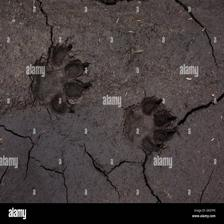wolf: (29, 42, 96, 117), (117, 94, 183, 156)
